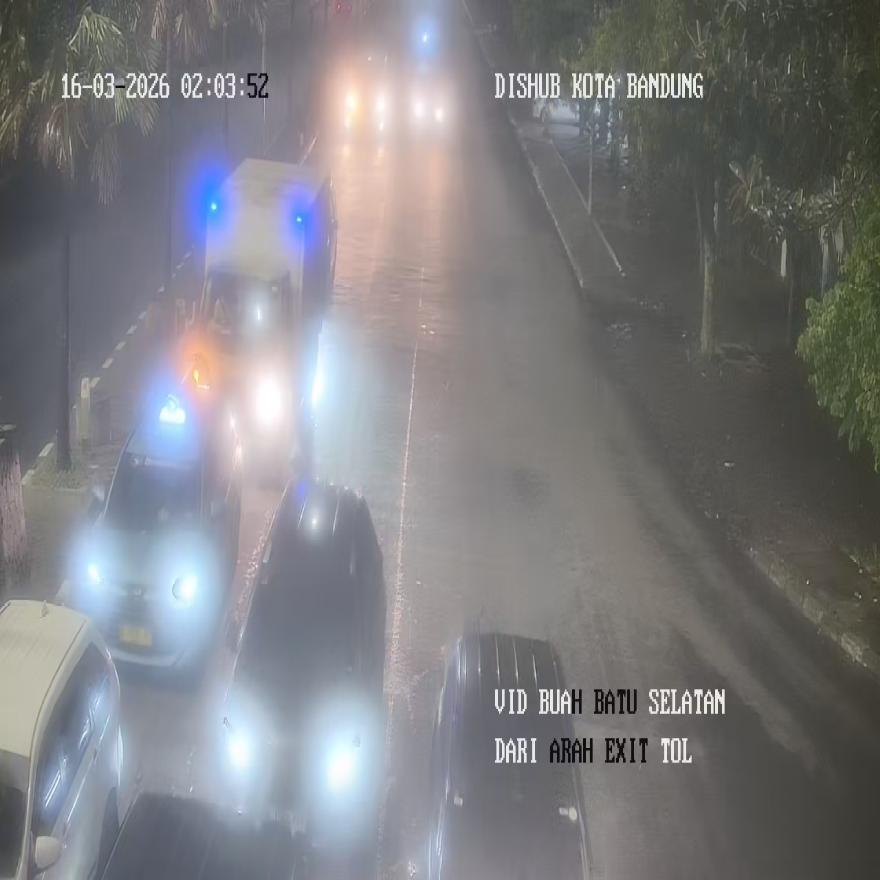Mobil: (220, 476, 386, 854), (74, 370, 243, 671), (424, 617, 596, 878), (0, 598, 123, 877)
Truk ringan: (178, 158, 338, 485)
